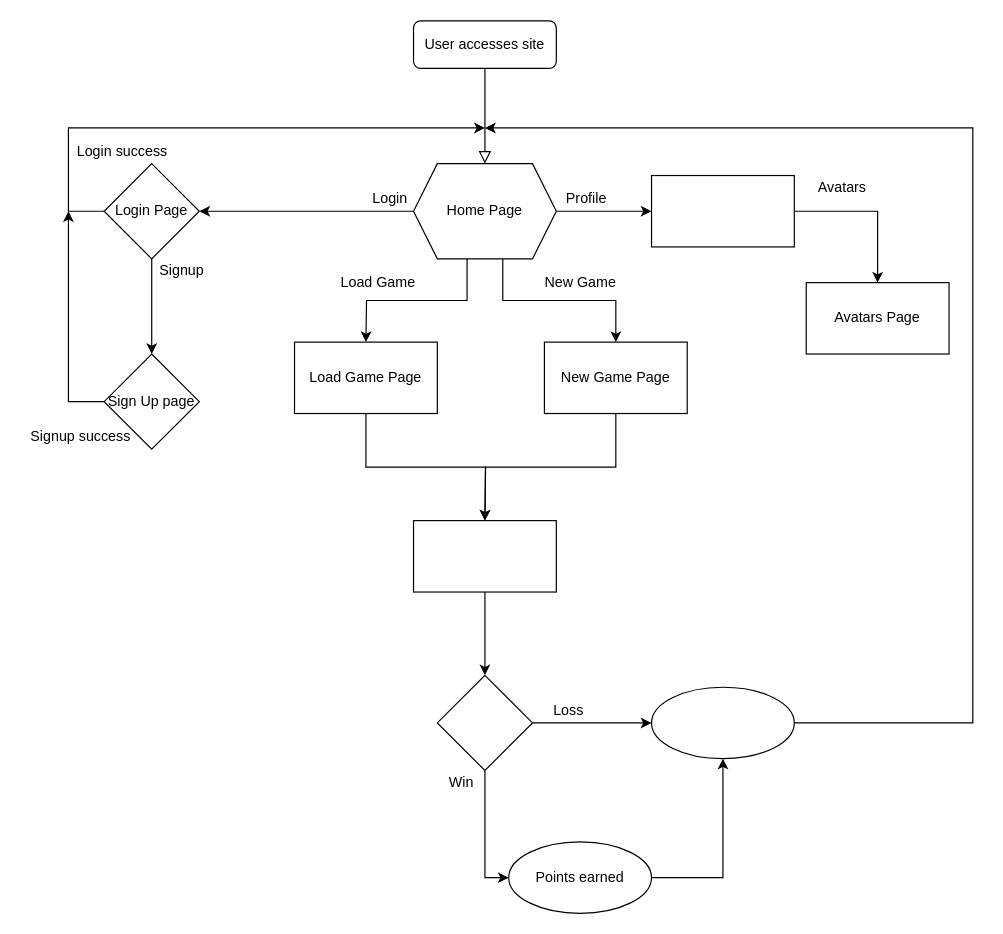
Image size: 1003x934. Some labels were removed from this diagram. Here are the shapes that lost their labels. From the top down, the centre of each, then its label:
pixel 722 210: Profile Page
pixel 484 555: Risk Game
pixel 484 722: GameOver
pixel 722 722: Profile update
